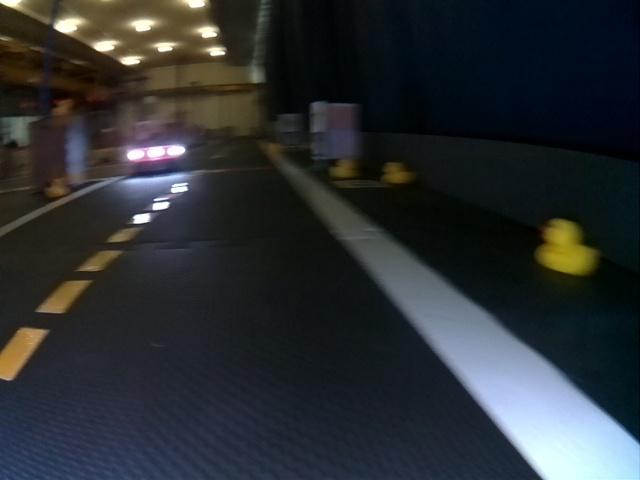Duckie: (535, 219, 598, 275), (381, 162, 412, 184), (44, 178, 68, 197), (329, 159, 350, 178)
Duckiebot: (126, 135, 185, 172)
